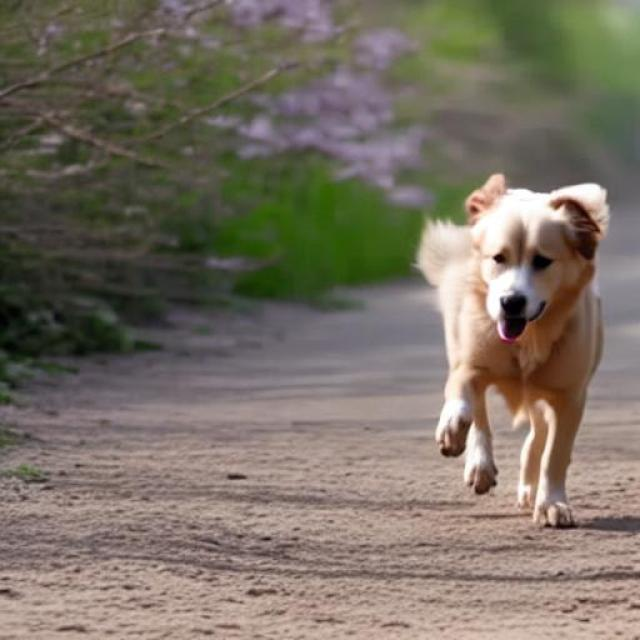Dog: (411, 173, 610, 528)
